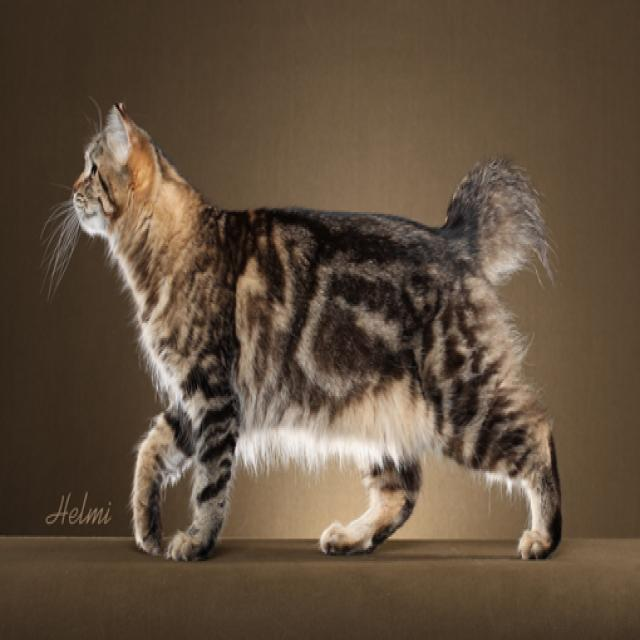American Bobtail: (69, 95, 566, 568)
